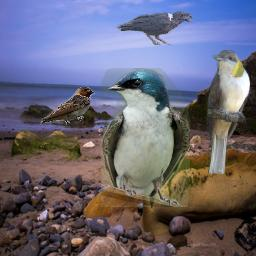Crow: (116, 10, 193, 46)
Cuckoo: (205, 50, 250, 174)
Swallow: (101, 68, 190, 207), (39, 86, 95, 126)
